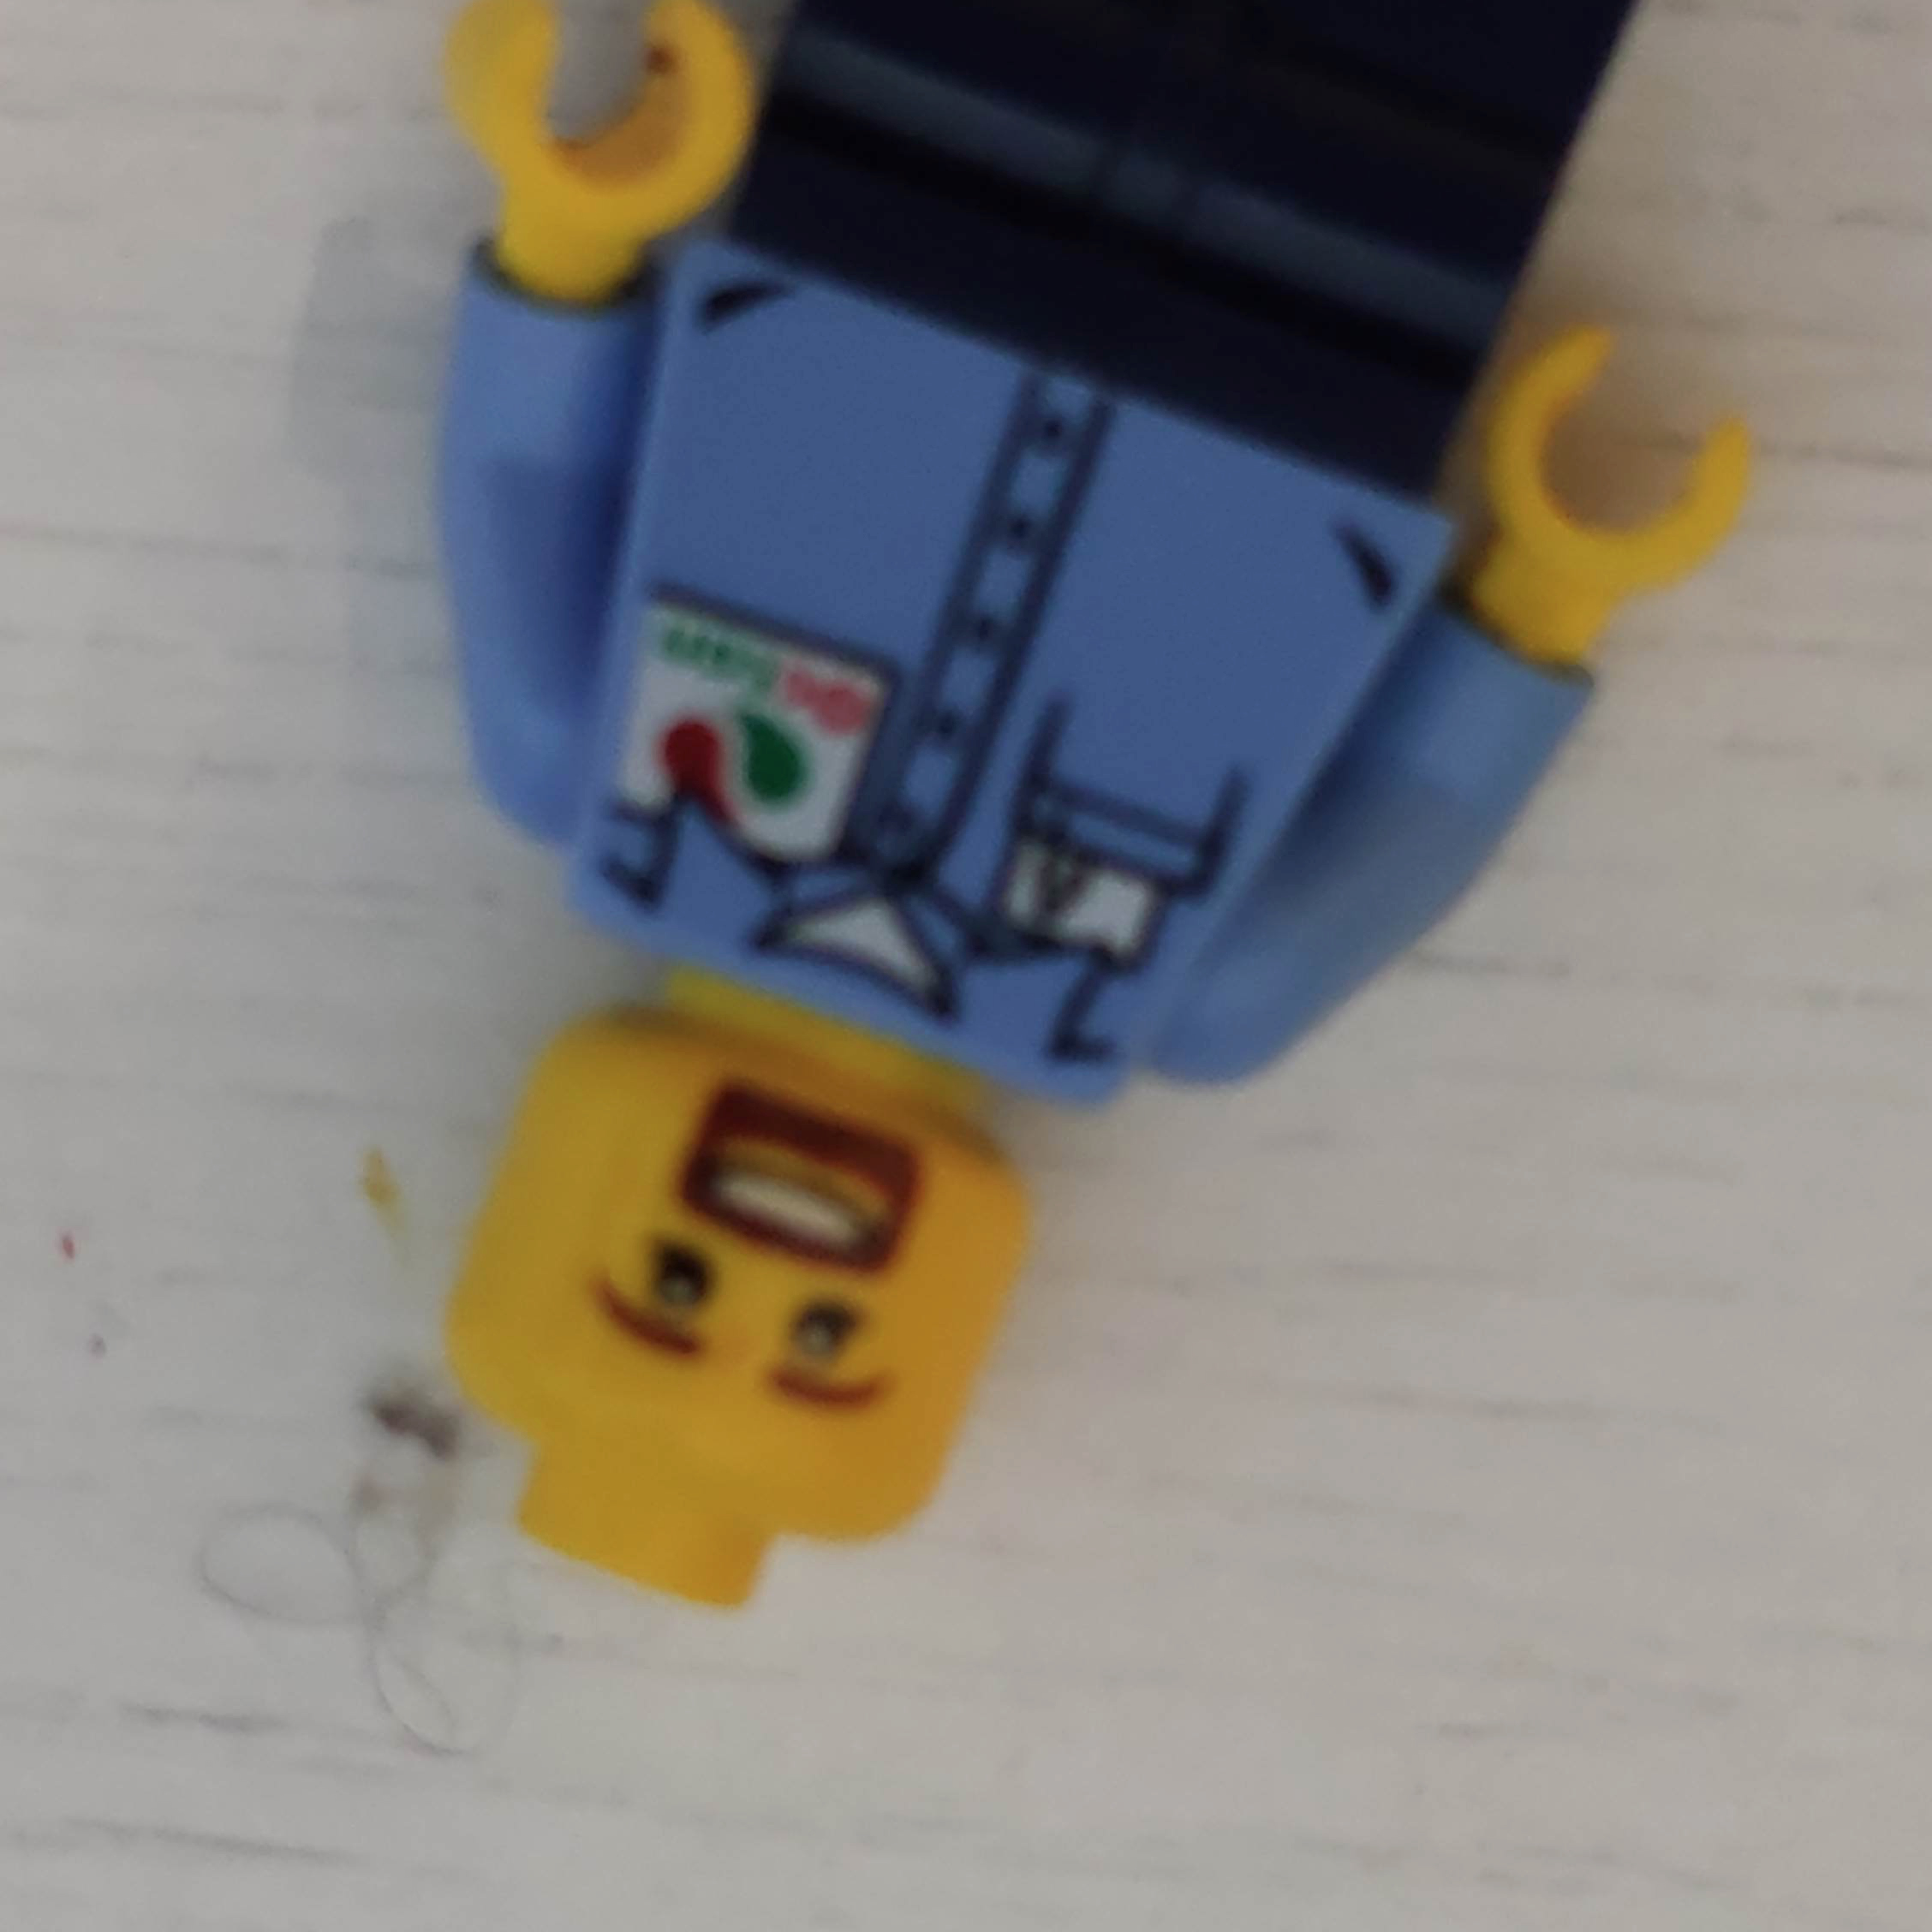lego: (441, 0, 1748, 1612)
